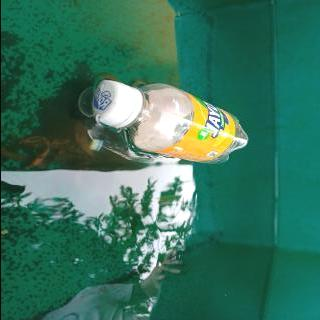bottle: (89, 78, 250, 165)
